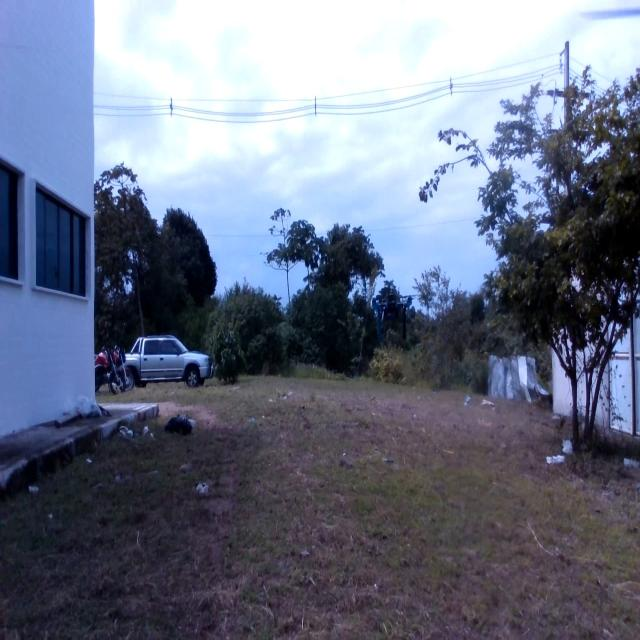-uav-: (365, 289, 423, 354)
